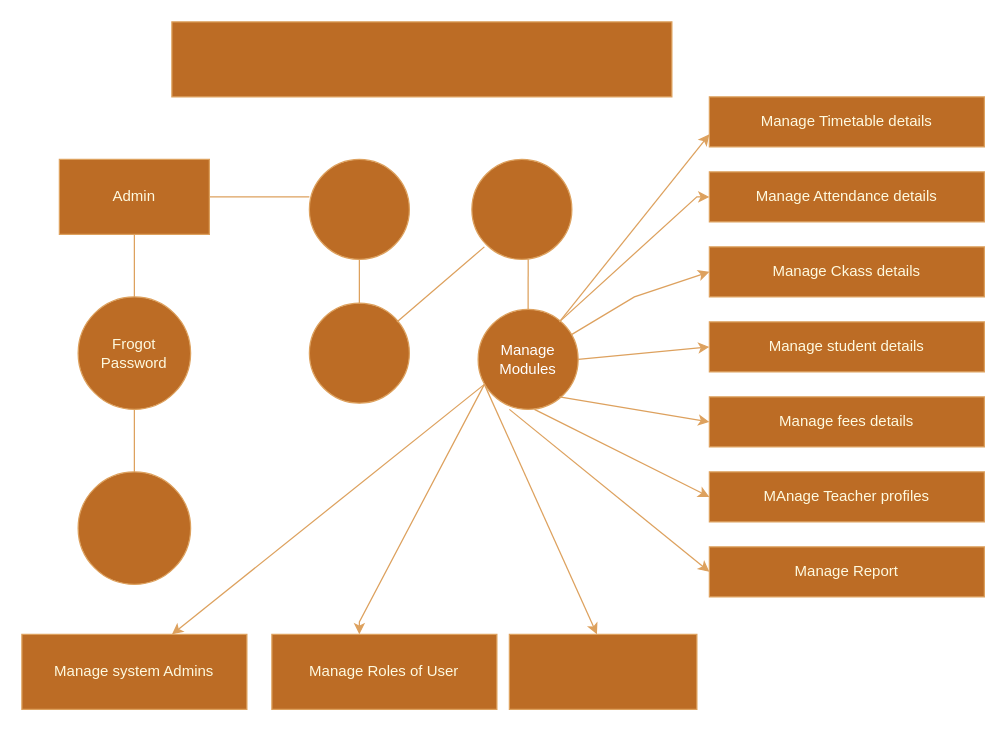
This 1006x731 diagram has some shape labels left out. Each missing label, with the box of its shape:
Check Credentials: (308, 302, 409, 403)
Check Roles of Access: (471, 158, 572, 259)
Login to system: (308, 158, 409, 259)
Manage user permission: (508, 633, 697, 709)
Send Email to User: (77, 471, 191, 584)
Student information System: (171, 21, 672, 97)
